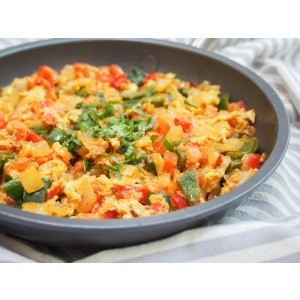egg_brain food: (35, 84, 190, 194)
